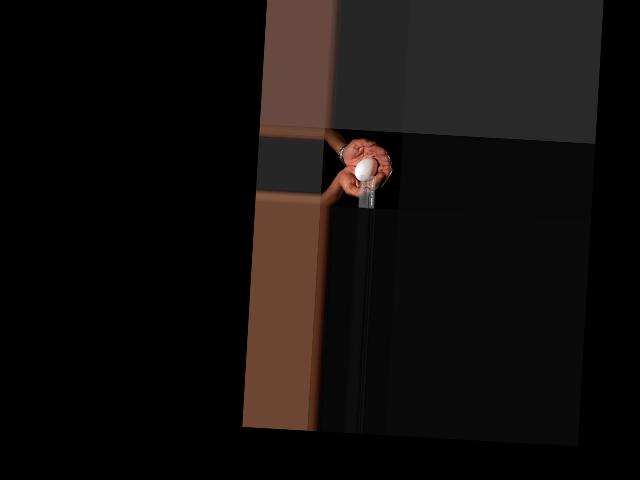egg: (354, 156, 378, 181)
